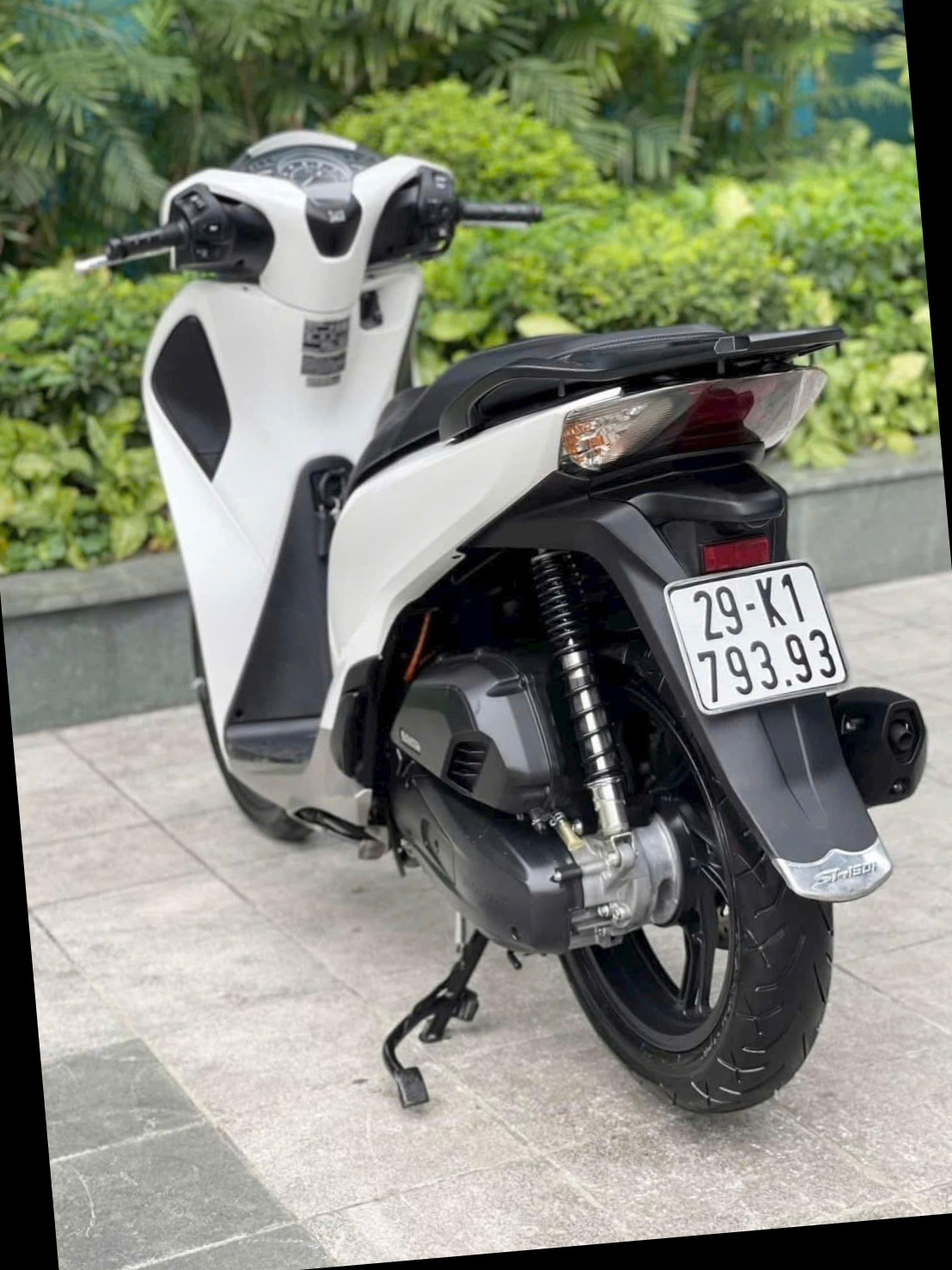Bien-so: (645, 636, 836, 792)
